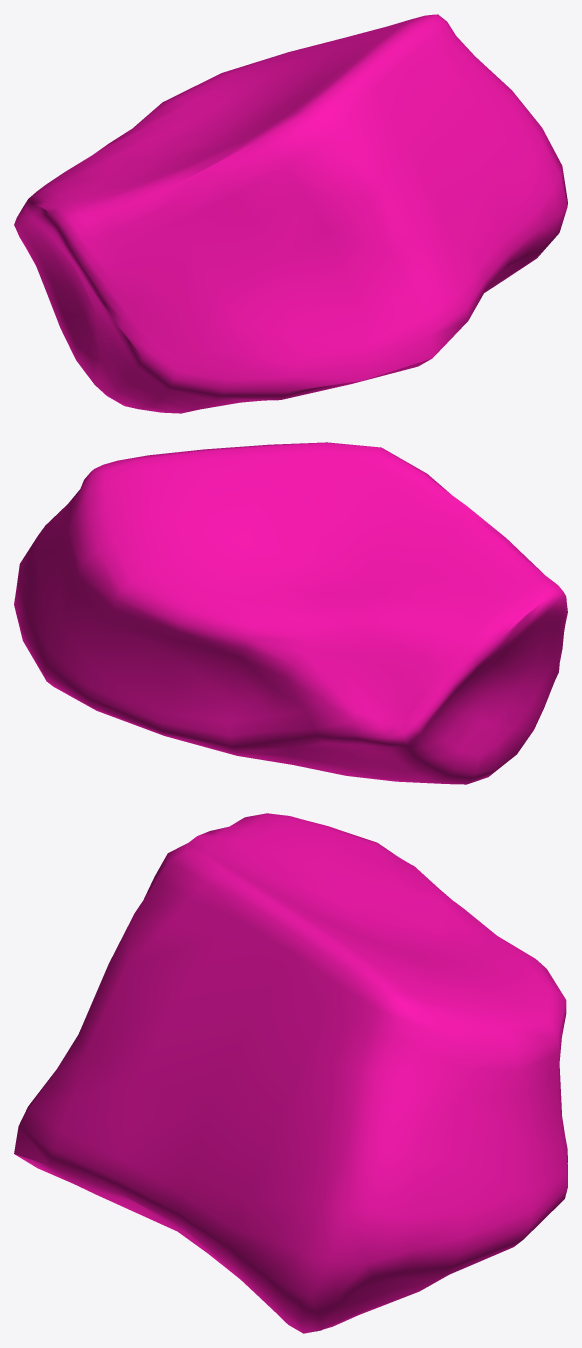
3 views of the same model, one above another, from view 1: azimuth 30°, elevation 25°; view 2: azimuth 150°, elevation 25°; view 3: azimuth 270°, elevation 25° (orthographic). The views are drawn at different scales.
Visible parts, largest first — view 1: defaultMaterial; view 2: defaultMaterial; view 3: defaultMaterial.
Boxes of the visible parts, <box> form: defaultMaterial: <box>14,14,567,413</box>; defaultMaterial: <box>14,442,567,784</box>; defaultMaterial: <box>14,813,567,1333</box>.
Bounding box in the file's own units: 1 × 0.5232 × 0.7111.
